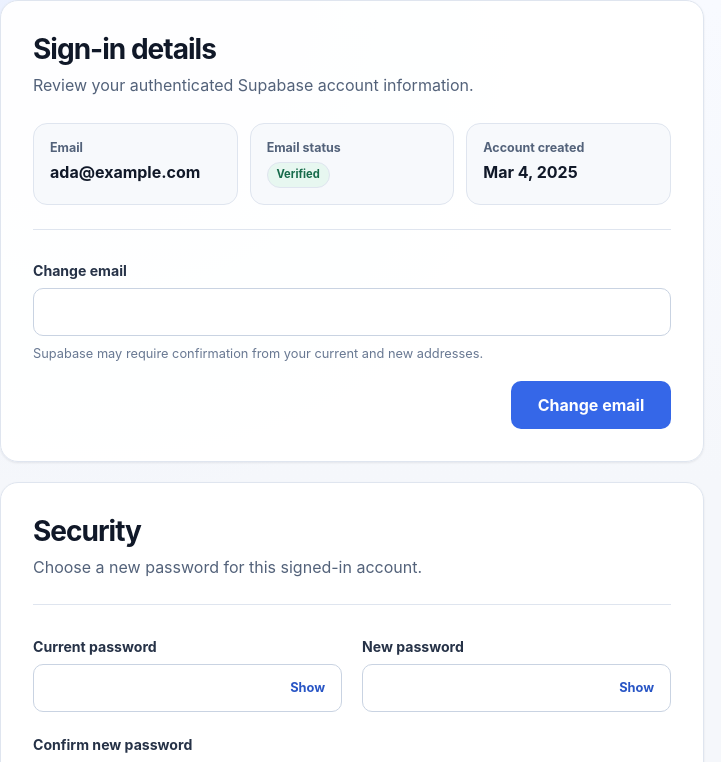
Test: AccountSettings › validates email and rejects an unchanged address
Type "not-an-email" into the field labelled "Change email".
click(352, 312); type("not-an-email")  # box [33,288,671,336]
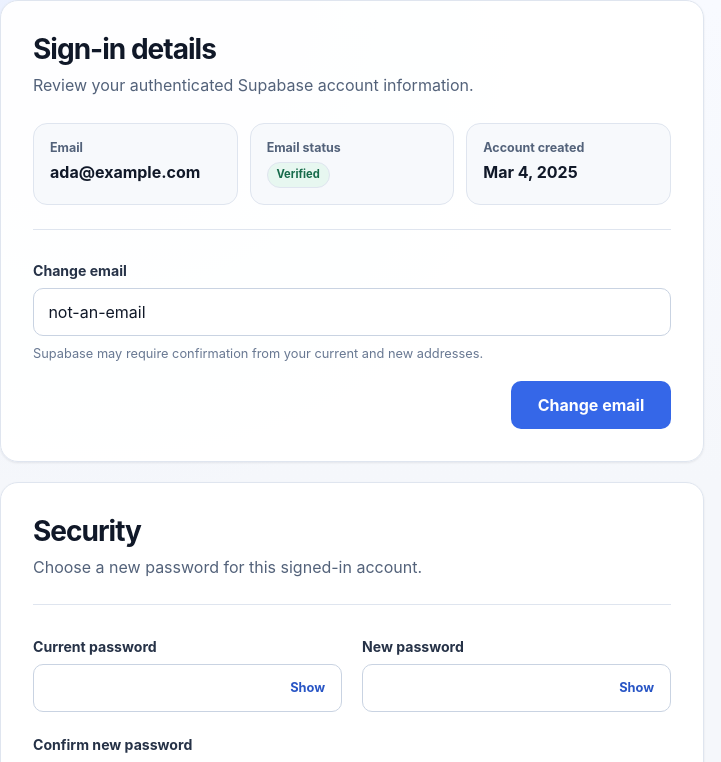
Click the button "Change email".
click(591, 405)  # box [511,381,671,429]
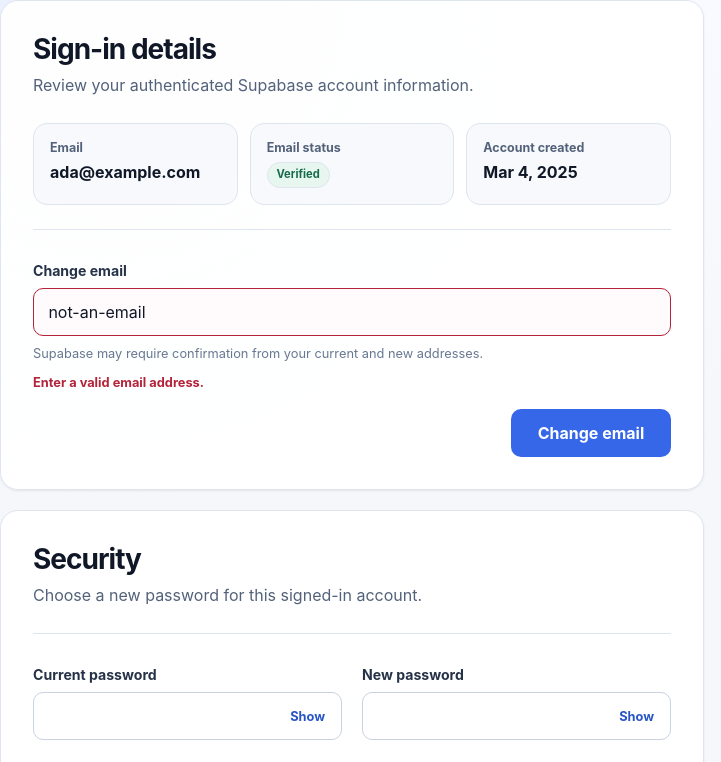
Expected: the message shows "Enter a valid email address", [33,375,204,390]
Replace the text in the field labelled "Change email" with " ADA@example.com " at (352, 312), box [33,288,671,336]
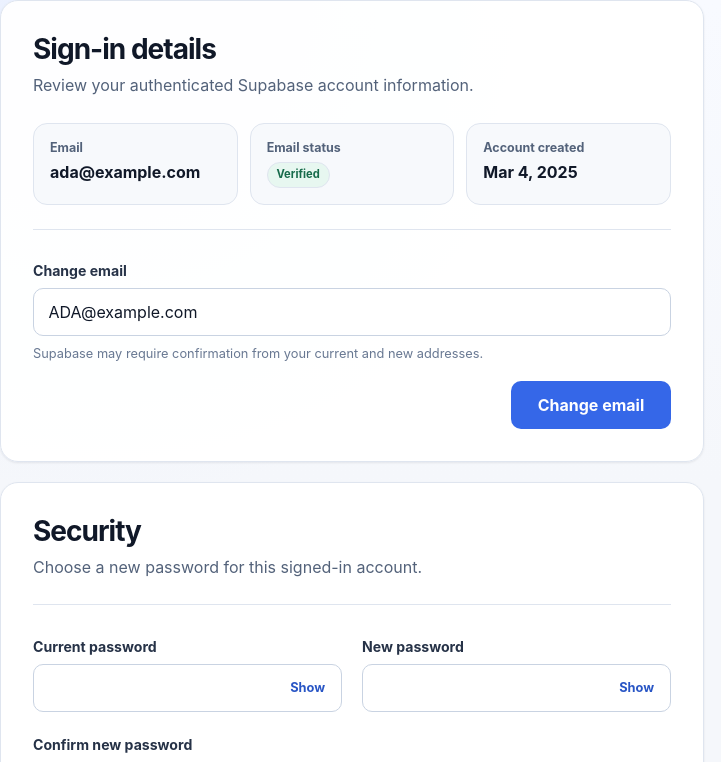
Click the button "Change email".
click(591, 405)  # box [511,381,671,429]
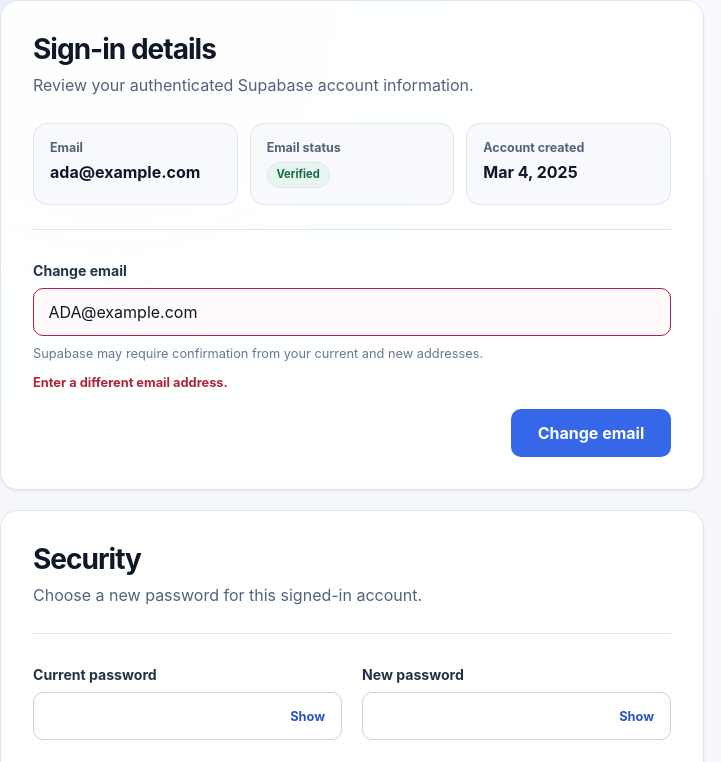
Expected: the message shows "Enter a different email address", [33,375,228,390]
